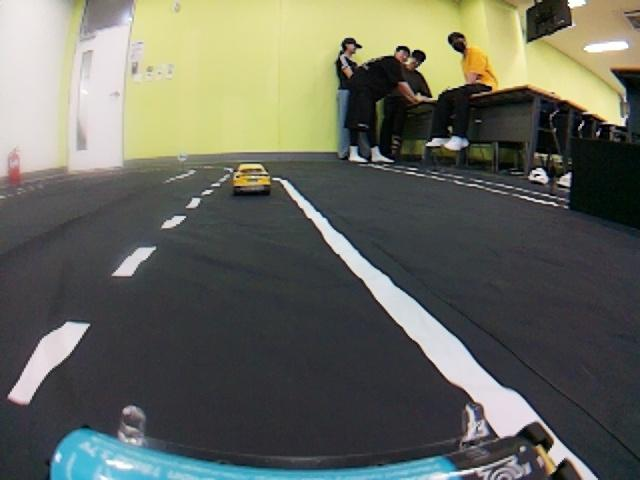car: (231, 160, 274, 193)
straight: (0, 155, 640, 480)
